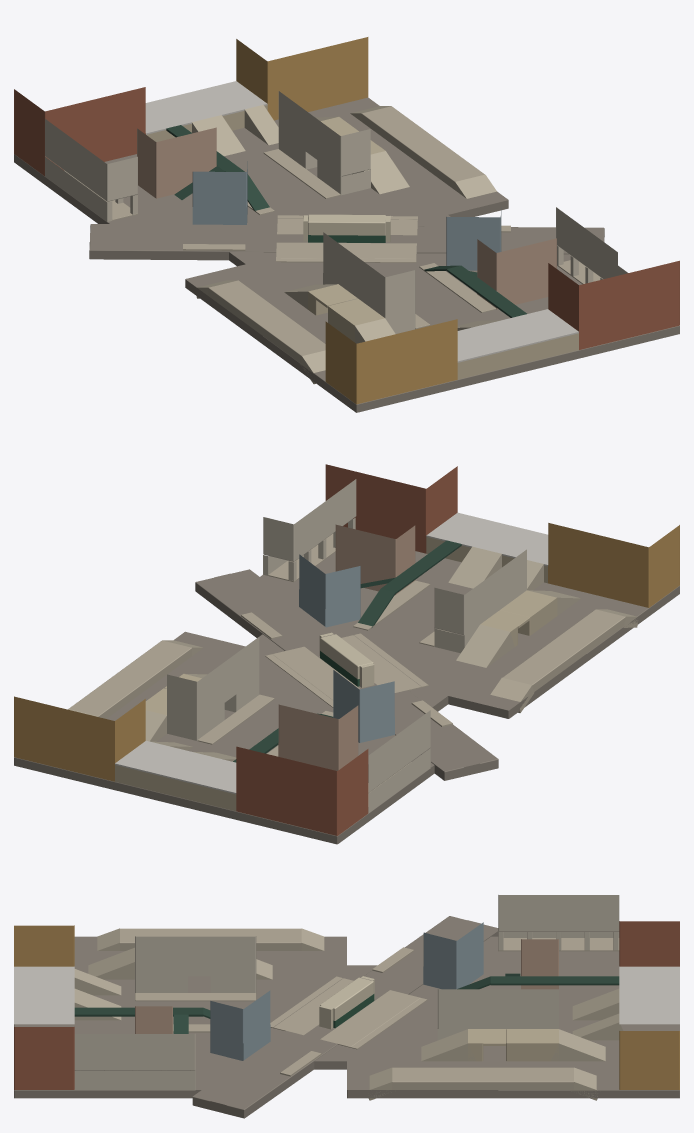
File: crossmarket_turf_level.glb
3 renders of one model, top to bottom at view 1: azimuth 30°, elevation 25°; view 2: azimuth 150°, elevation 25°; view 3: azimuth 270°, elevation 25°, orthographic. The views are drawn at different scales.
Parts seen in each view (by area): view 1: PaintableStage; view 2: PaintableStage; view 3: PaintableStage.
Boxes of the visible parts, x1,y1,x2,y2 form: PaintableStage: [14, 37, 679, 412]; PaintableStage: [14, 464, 679, 844]; PaintableStage: [14, 895, 679, 1118].
Size of the model in its own units: 60.64 by 11.97 by 88.
